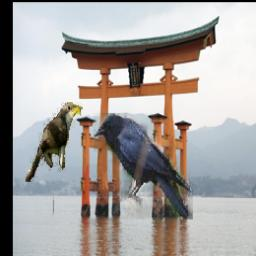Crow: (95, 114, 194, 221)
Cuckoo: (26, 102, 83, 182)
